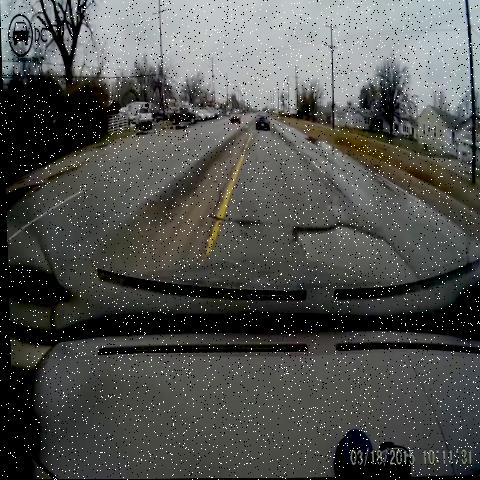pothole: (281, 203, 419, 291)
